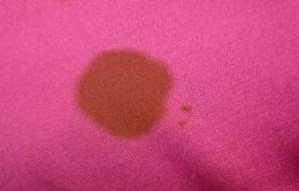stain: (76, 48, 173, 140), (180, 102, 193, 113), (177, 120, 187, 129)
